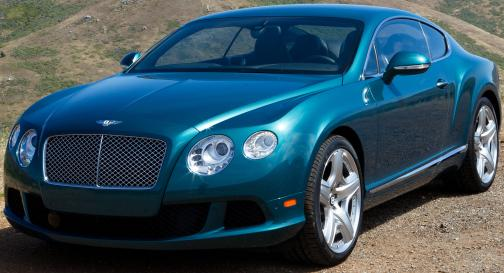front_view: (6, 107, 308, 248)
headlight: (185, 124, 282, 184)
side_glass: (358, 17, 453, 85)
